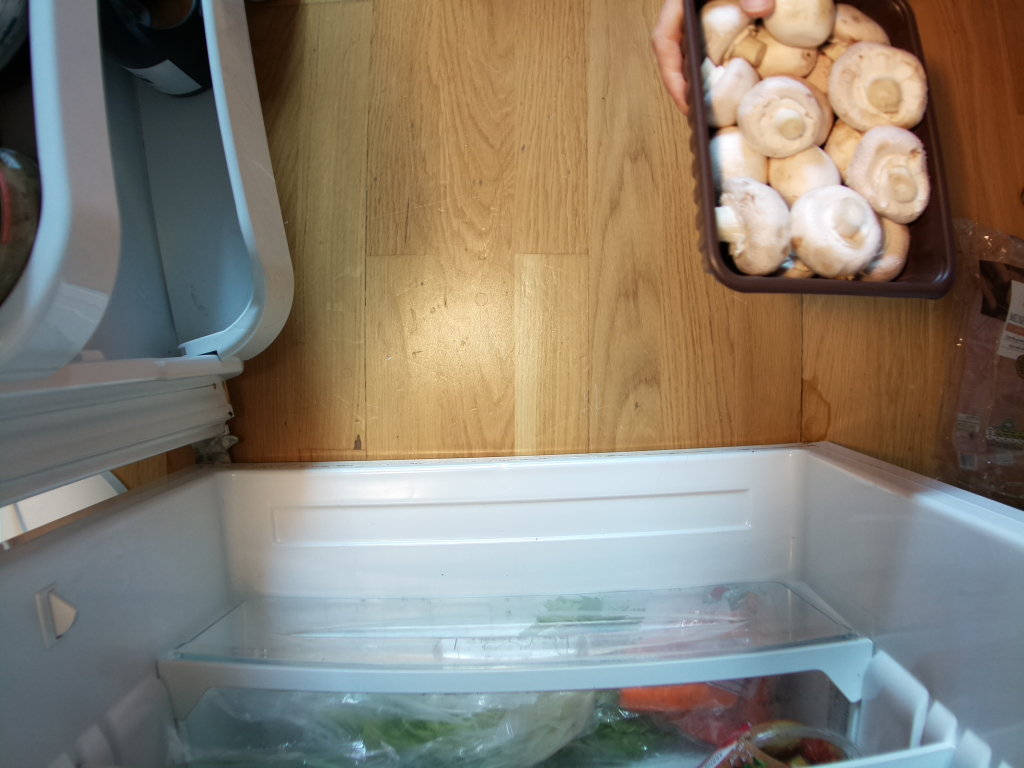mushrooms: (683, 1, 964, 311)
